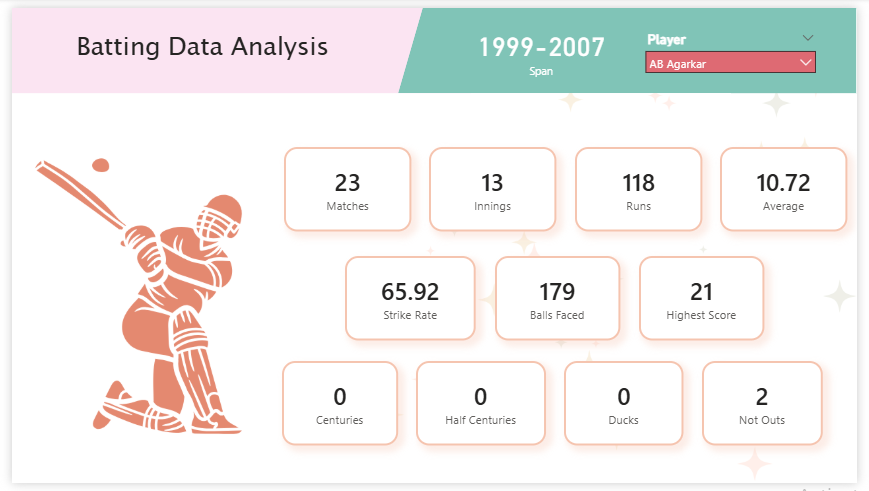

The page's visual inventory and layout, read from the dashboard file:
{"tool":"powerbi","page":{"name":"Batting","canvas":[1280,720],"ordinal":0},"visuals":[{"type":"shape","box":[0,0,694.8,129.3],"z":0},{"type":"shape","box":[584.5,0,694.8,129.3],"z":1000},{"type":"cardVisual","fields":{"Data":["Sum(Batting stats.Runs)"]},"box":[852.3,210.3,193.1,127.6],"z":3000},{"type":"cardVisual","fields":{"Data":["Sum(Batting stats.Inns)"]},"box":[632.2,210.3,193.1,127.6],"z":4000},{"type":"cardVisual","fields":{"Data":["Sum(Batting stats.Mat)"]},"box":[412.1,210.3,193.1,127.6],"z":5000},{"type":"cardVisual","fields":{"Data":["Sum(Batting stats.SR)"]},"box":[505.2,375.9,198.3,127.6],"z":6000},{"type":"cardVisual","fields":{"Data":["Sum(Batting stats.BF)"]},"box":[731.9,375.9,189.7,127.6],"z":7000},{"type":"cardVisual","fields":{"Data":["Sum(Batting stats.100)"]},"box":[408.6,534.5,175.9,127.6],"z":8000},{"type":"cardVisual","fields":{"Data":["Sum(Batting stats.50)"]},"box":[612.1,534.5,196.6,127.6],"z":9000},{"type":"shape","box":[1089.7,0,189.7,129.3],"z":9500},{"type":"cardVisual","fields":{"Data":["Sum(Batting stats.0)"]},"box":[836.2,534.5,181,127.6],"z":10000},{"type":"slicer","fields":{"Values":["Batting stats.Player"]},"box":[950,31,277.6,74.1],"z":10250},{"type":"cardVisual","fields":{"Data":["Sum(Batting stats.Ave)"]},"box":[1072.4,210.3,193.1,127.6],"z":11000},{"type":"cardVisual","fields":{"Data":["Min(Batting stats.HS)"]},"box":[950,375.9,189.7,127.6],"z":12000},{"type":"cardVisual","fields":{"Data":["Sum(Batting stats.NO)"]},"box":[1044.8,534.5,182.8,127.6],"z":13000},{"type":"textbox","box":[93.1,25.9,412.1,150],"z":14000},{"type":"card","fields":{"Values":["Min(Batting stats.Span)"]},"box":[675.9,13.8,251.7,101.7],"z":15000}]}

Visuals, with their boxes in screenshot pixels (x1, y1, x2, y2), scaled from the page's 1280x720 canvas onto the 869x491 screenshot:
shape: Rect(0, 0, 472, 88)
shape: Rect(397, 0, 868, 88)
cardVisual - Sum(Batting stats.Runs): Rect(579, 143, 710, 230)
cardVisual - Sum(Batting stats.Inns): Rect(429, 143, 560, 230)
cardVisual - Sum(Batting stats.Mat): Rect(280, 143, 411, 230)
cardVisual - Sum(Batting stats.SR): Rect(343, 256, 478, 343)
cardVisual - Sum(Batting stats.BF): Rect(497, 256, 626, 343)
cardVisual - Sum(Batting stats.100): Rect(277, 364, 397, 452)
cardVisual - Sum(Batting stats.50): Rect(416, 364, 549, 452)
shape: Rect(740, 0, 868, 88)
cardVisual - Sum(Batting stats.0): Rect(568, 364, 691, 452)
slicer - Batting stats.Player: Rect(645, 21, 833, 72)
cardVisual - Sum(Batting stats.Ave): Rect(728, 143, 859, 230)
cardVisual - Min(Batting stats.HS): Rect(645, 256, 774, 343)
cardVisual - Sum(Batting stats.NO): Rect(709, 364, 833, 452)
textbox: Rect(63, 18, 343, 120)
card - Min(Batting stats.Span): Rect(459, 9, 630, 79)
